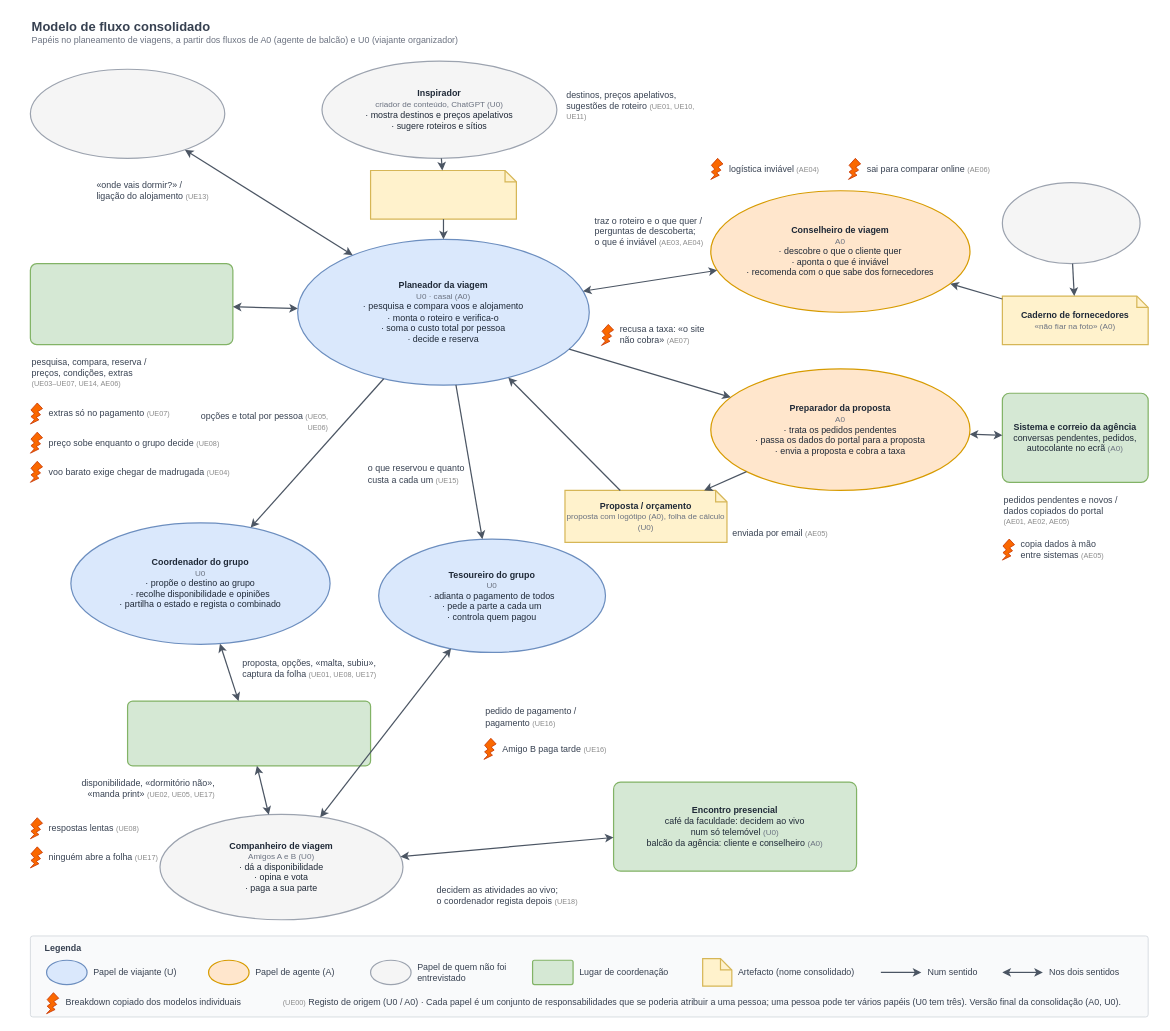
Some shapes in this 1170 by 1031 pixel diagram are drawn without their labels. Each missing label, with the centre of its shape:
"Fornecedor hotéis (A0) · vende e mostra fotos" belongs at (x=1070, y=223).
"Grupo de mensagens propostas, votos, prints, lembretes (U0)" belongs at (x=249, y=733).
"Guardião financeiro mãe (U0) · vigia os gastos · quer saber onde se dorme" belongs at (x=127, y=113).
"Plataformas online comparadores, companhias aéreas, sites de alojamento (U0, A0)" belongs at (x=131, y=304).
"Roteiro / lista de ideias impresso (A0), notas e mapa (U0)" belongs at (x=443, y=194).
